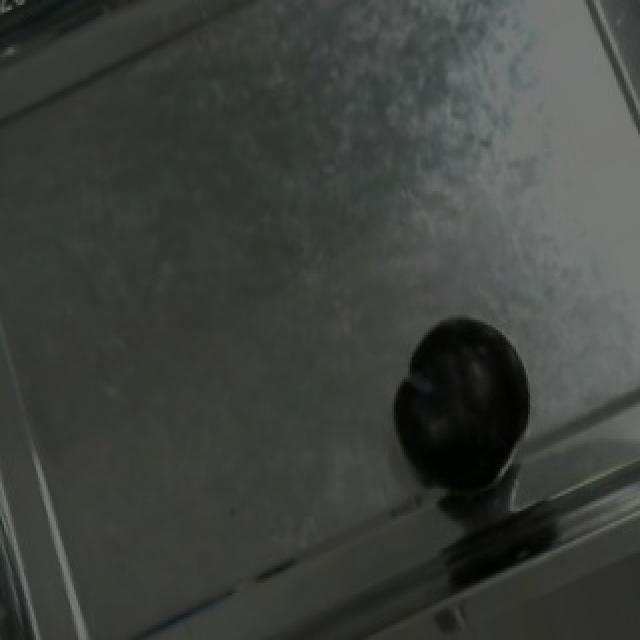Fruit: (372, 297, 550, 518)
